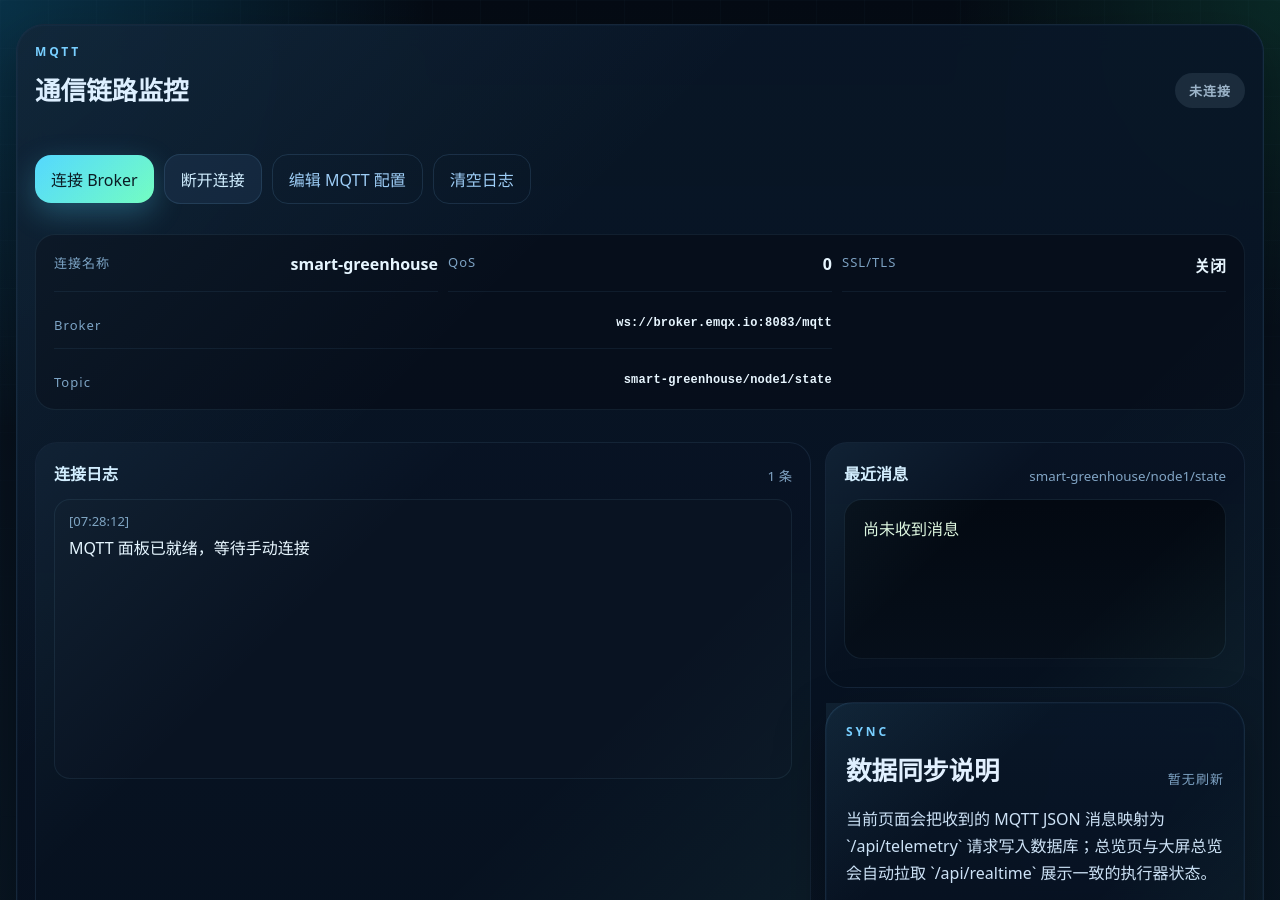
App › shows mqtt panel and opens config dialog
Click the button "编辑 MQTT 配置" at (347, 179), box [272,154,423,204]
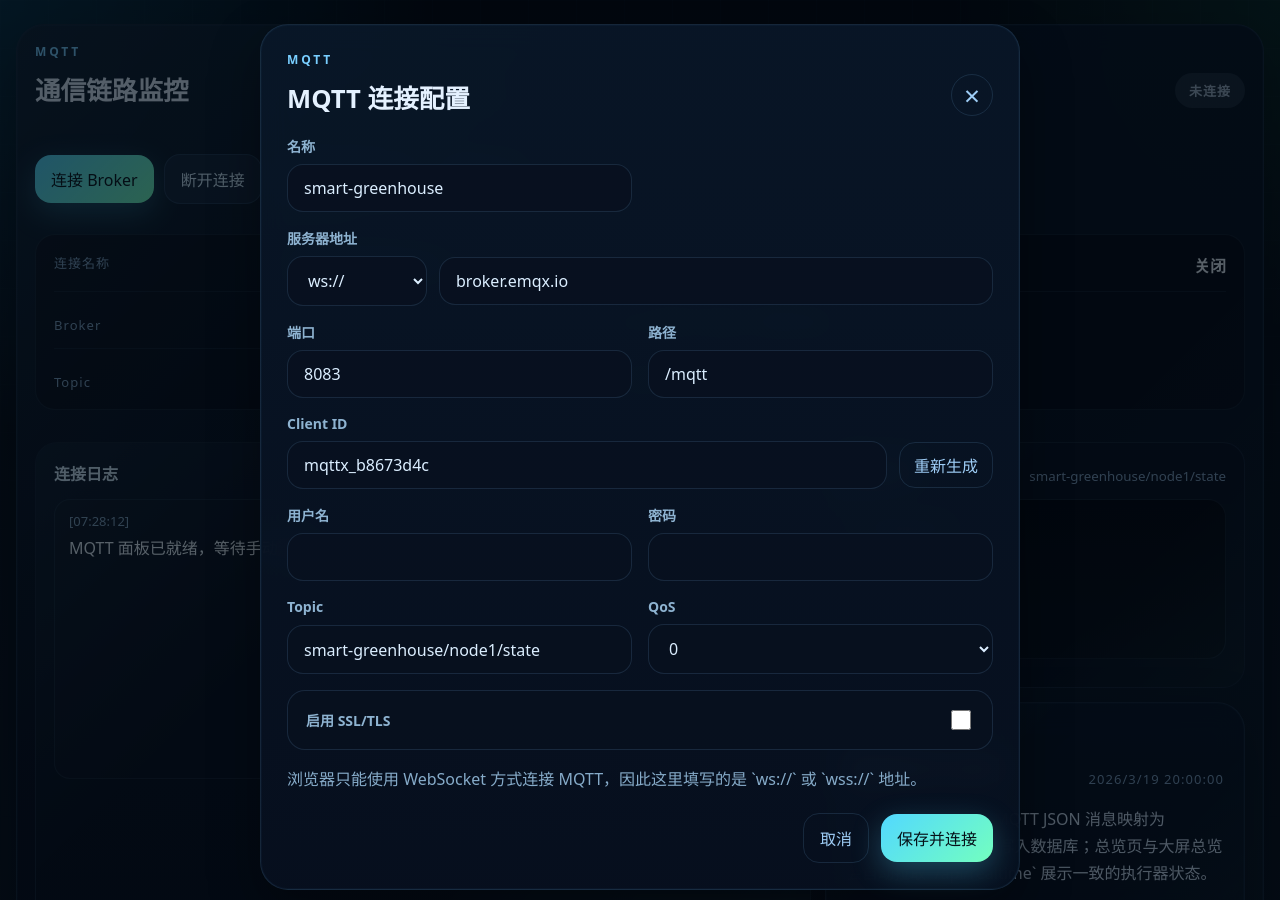
Expected: the text "Topic" is shown, [54,373,91,391]
Expected: the text "MQTT 连接配置" is shown, [287,78,470,116]
Expected: the text "Client ID" is shown, [287,414,348,433]
